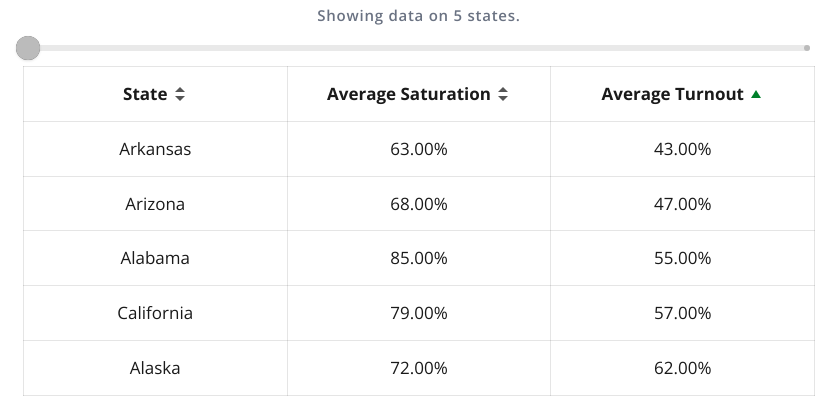
Scenario: VotingTable › toggles sort direction when the same header is clicked twice
First click: ascending by state
Click the button named "sort by" at (180,94), box [172,87,188,101]
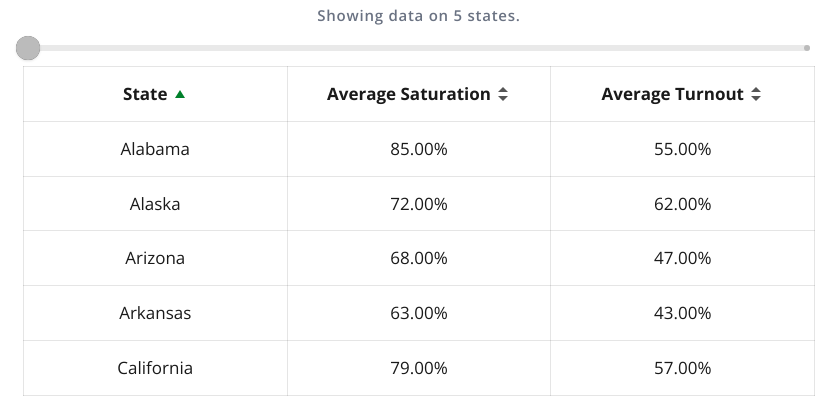
Expected: the row "Alabama 85.00% 55.00%" is shown, [23,121,815,176]
Second click: descending by state → Colorado first
Click the button named "sort by" at (180,94), box [172,90,188,98]
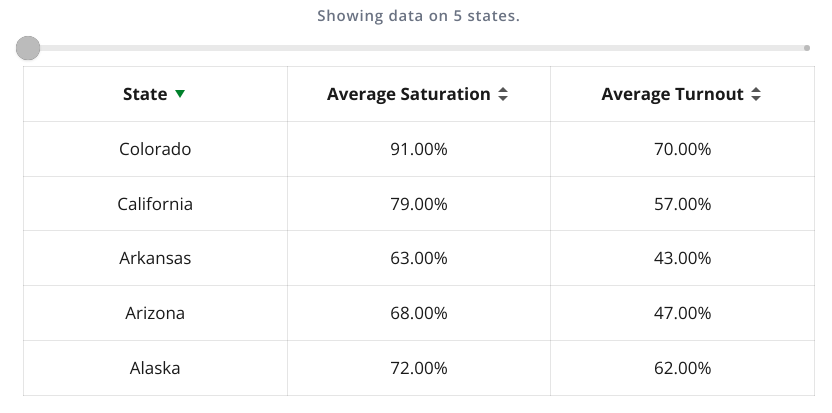
Expected: the row "Colorado 91.00% 70.00%" is shown, [23,121,815,176]
